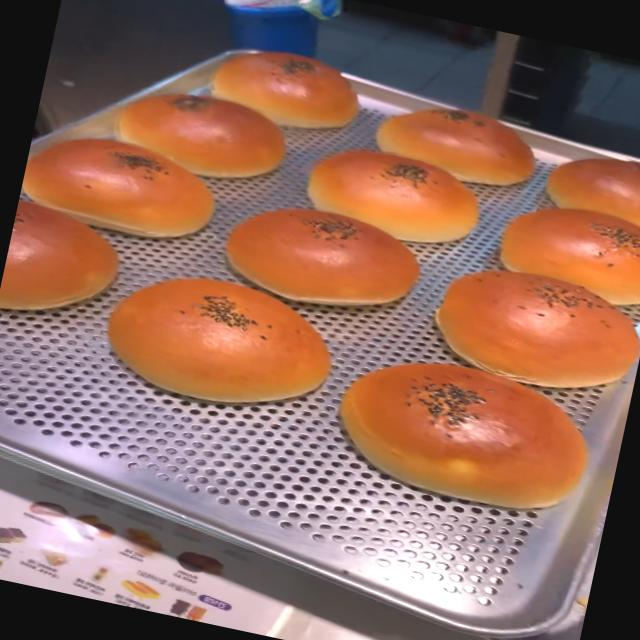bread: (324, 342, 606, 524), (102, 258, 344, 423), (431, 253, 640, 405), (216, 189, 432, 328), (17, 117, 224, 252), (97, 70, 302, 198), (292, 132, 493, 262), (477, 181, 640, 317)
